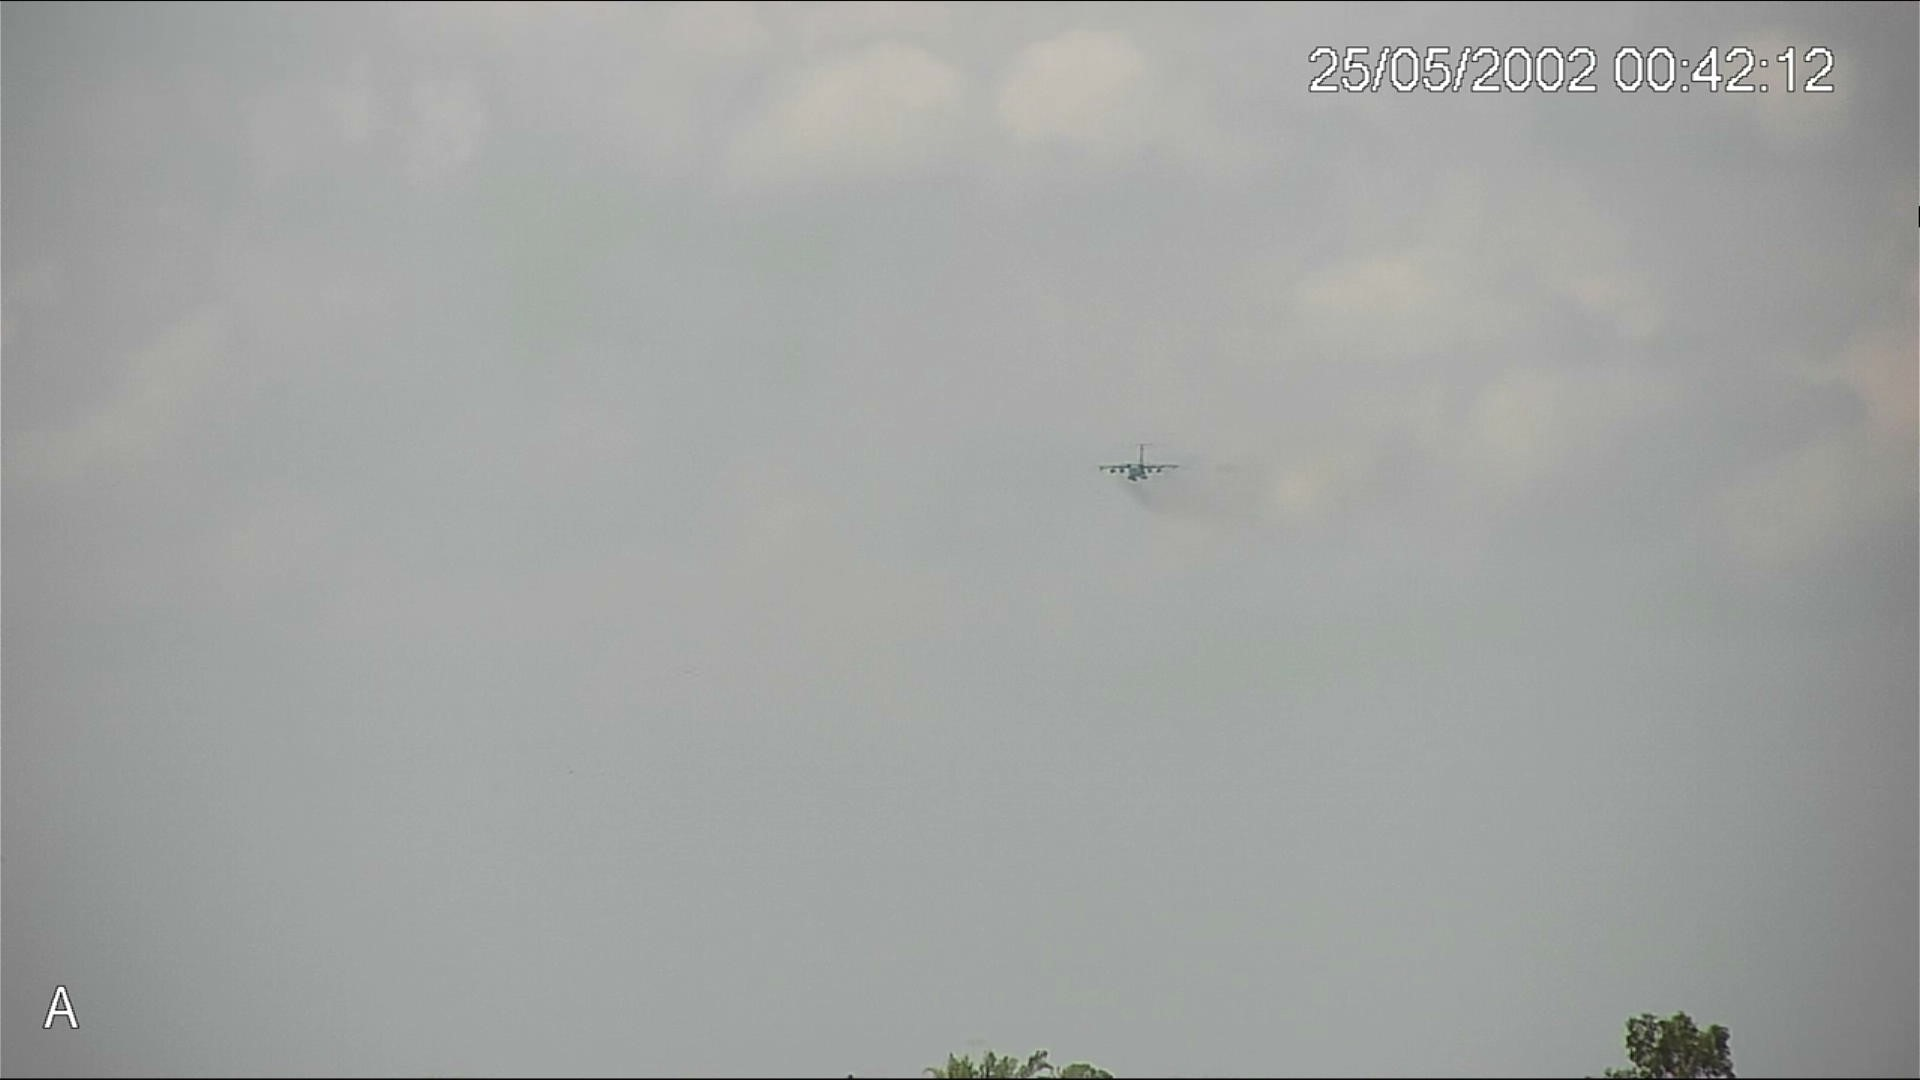SU_30: (1092, 440, 1183, 481)
